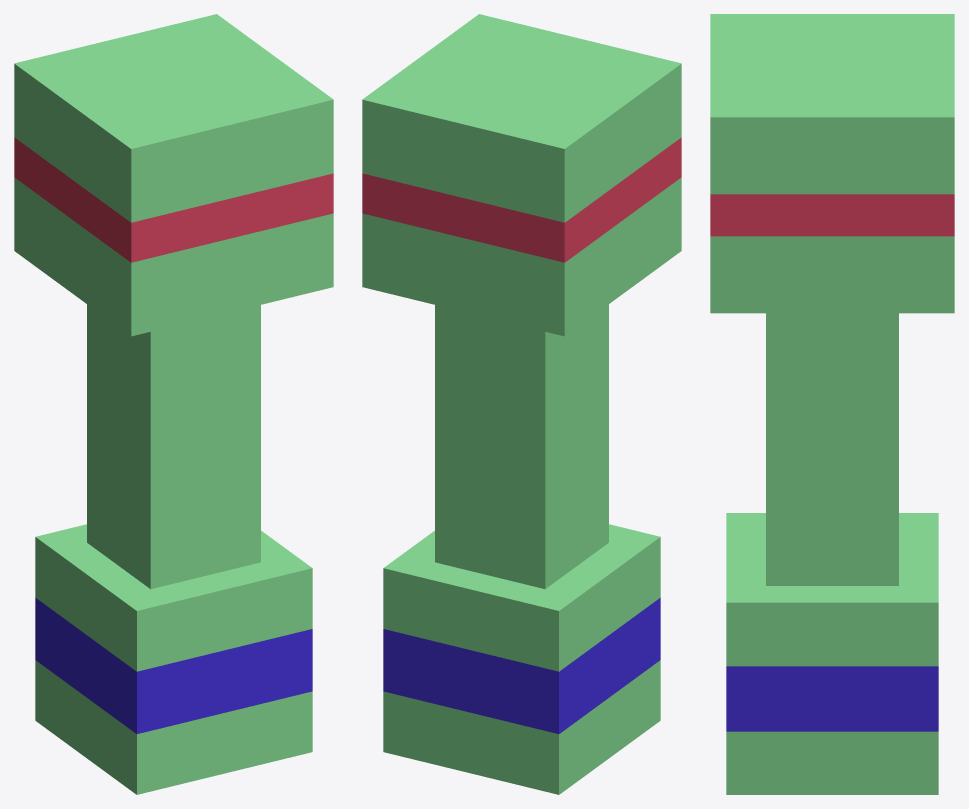
File: Prueba.gltf
The picture shows the model from 3 angles, left to right: view 1: azimuth 30°, elevation 25°; view 2: azimuth 150°, elevation 25°; view 3: azimuth 270°, elevation 25°; orthographic projection. The views are drawn at different scales.
Visible parts, largest first — view 1: Cube; view 2: Cube; view 3: Cube.
Part boxes in pixels (x1,y1,x2,y2): Cube: [14, 14, 333, 794]; Cube: [362, 14, 681, 794]; Cube: [710, 14, 954, 794].
Size of the model in its own units: 2.31 by 7.12 by 2.31.
